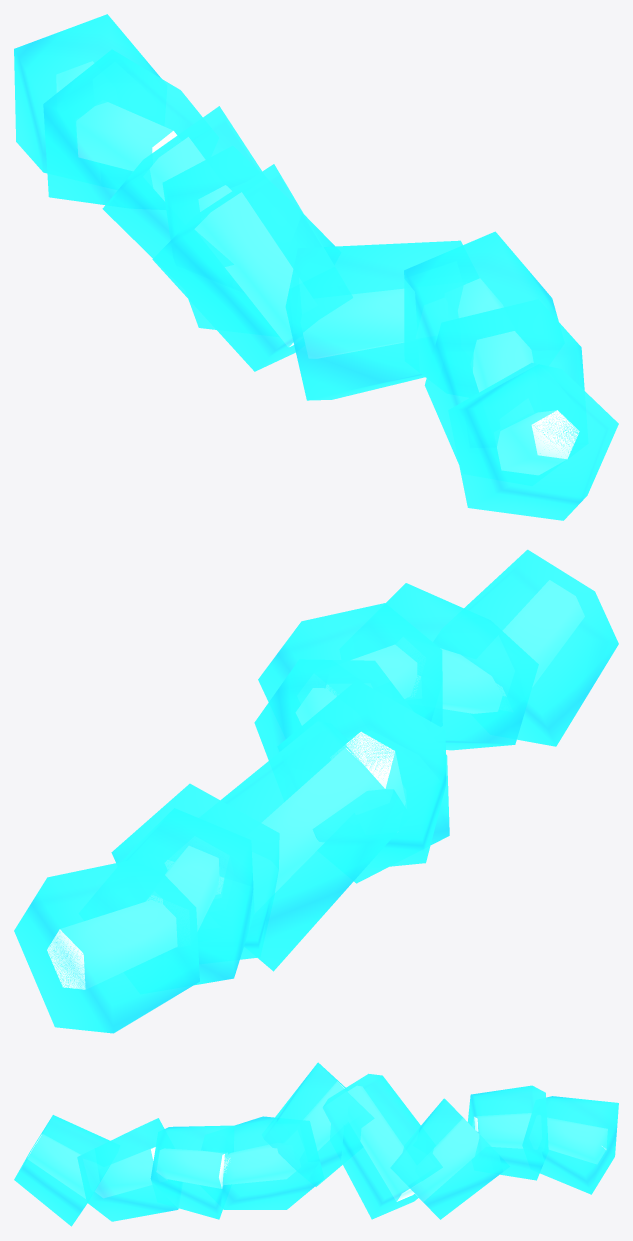
File: fx_zap_f.glb
3 renders of one model, top to bottom at view 1: azimuth 30°, elevation 25°; view 2: azimuth 150°, elevation 25°; view 3: azimuth 270°, elevation 25°, orthographic. The views are drawn at different scales.
Parts seen in each view (by area): view 1: fx_zap_f; view 2: fx_zap_f; view 3: fx_zap_f.
Part boxes in pixels (x1=…): fx_zap_f: x1=14, y1=14, x2=618, y2=520; fx_zap_f: x1=14, y1=549, x2=618, y2=1033; fx_zap_f: x1=14, y1=1062, x2=618, y2=1226.
Bounding box in the file's own units: 0.3393 × 0.2628 × 1.07.
